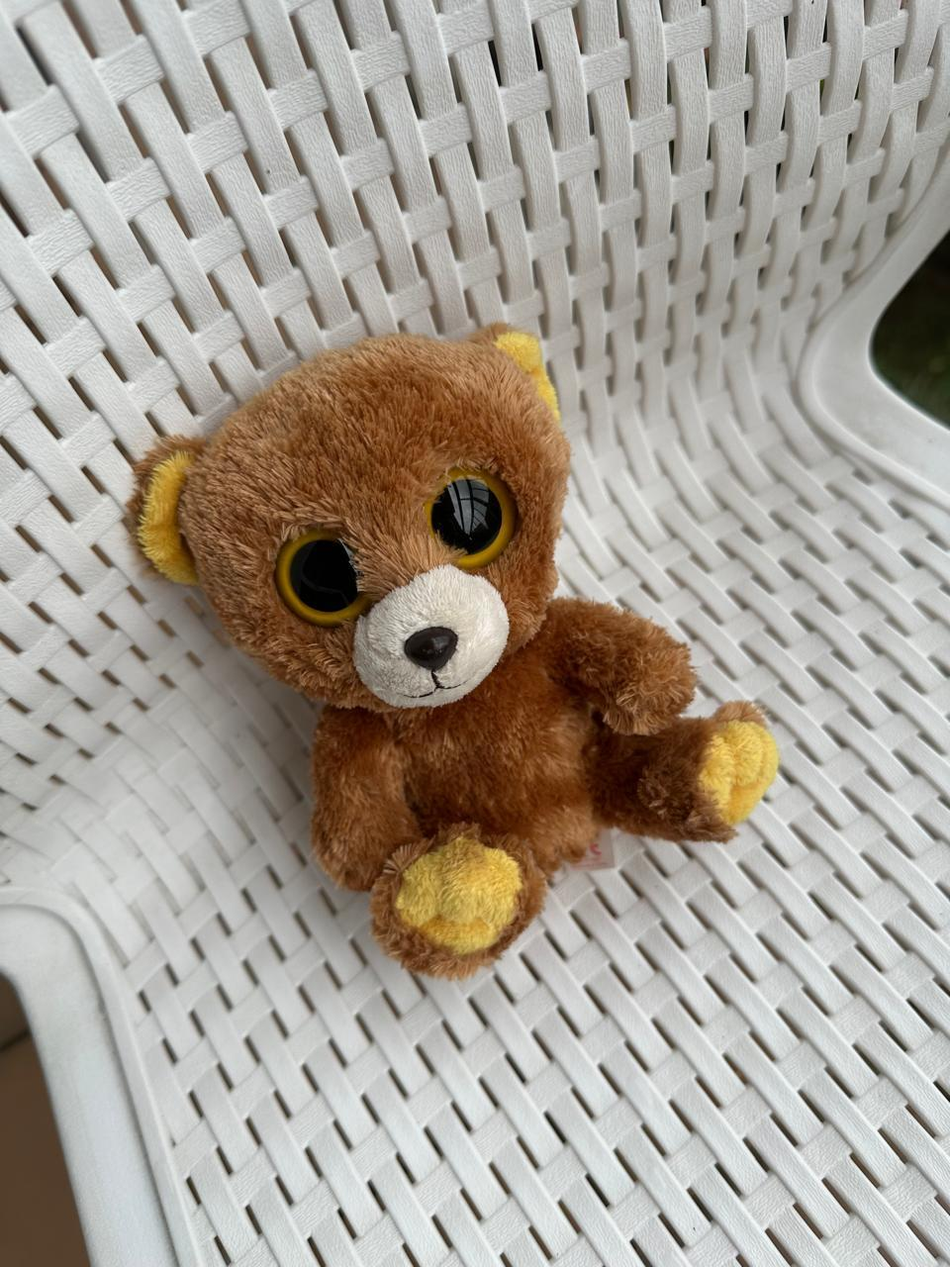peluche_sebastian: (129, 319, 777, 975)
